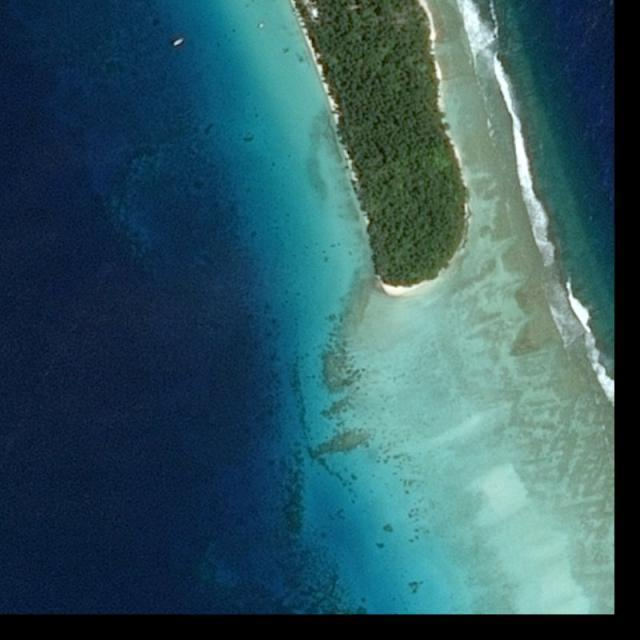ship: (171, 37, 186, 47)
